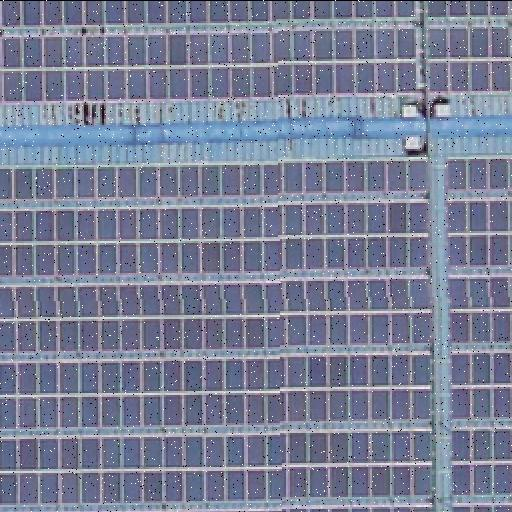solar-panel: (0, 154, 512, 512), (0, 0, 512, 102)
